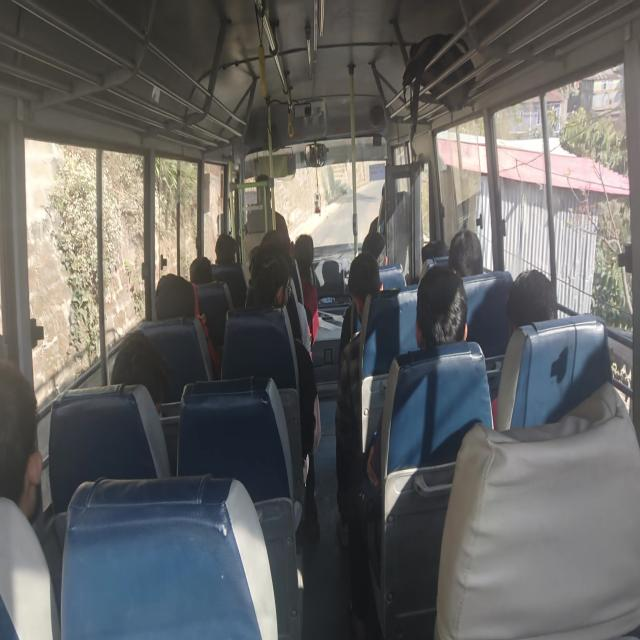person: (0, 385, 50, 550), (413, 286, 466, 347), (118, 329, 153, 404), (513, 277, 553, 331), (256, 255, 286, 312), (351, 248, 384, 298), (156, 280, 195, 322), (446, 226, 476, 274), (192, 260, 220, 294), (420, 235, 445, 268), (293, 234, 316, 268), (214, 232, 240, 260), (266, 224, 285, 251)
